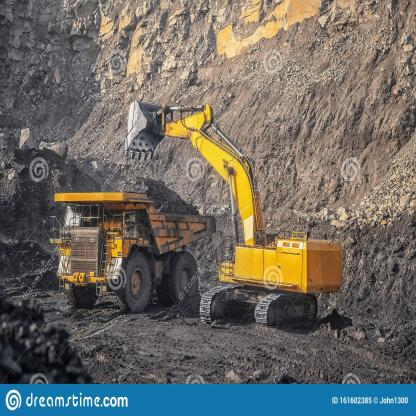dump_truck: (48, 177, 217, 331)
excavator: (119, 90, 350, 332), (117, 93, 233, 181)
